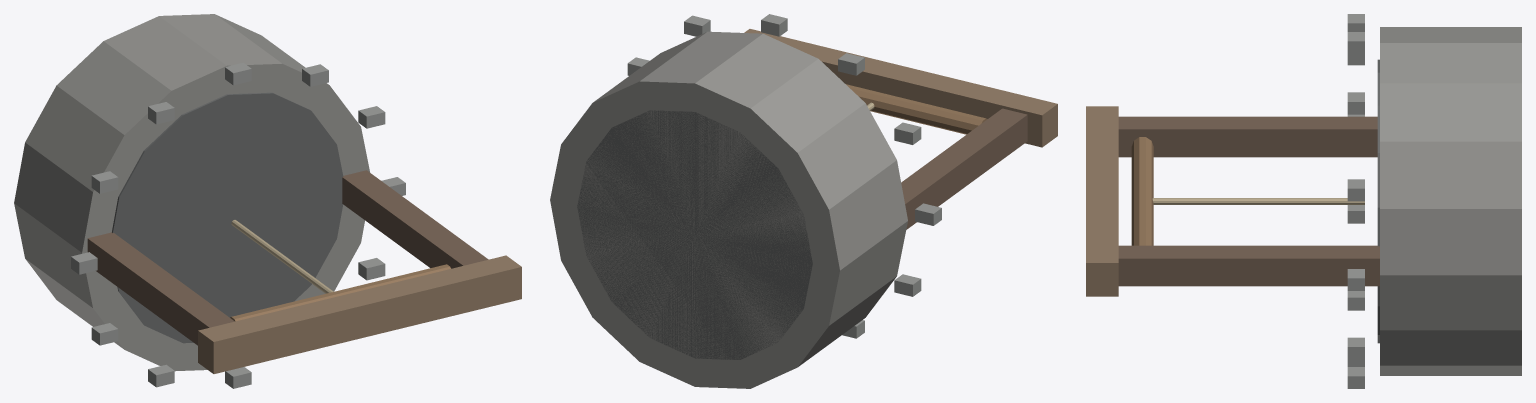
File: SM_StoneWell.glb
3 views of the same model, side by side, from view 1: azimuth 30°, elevation 25°; view 2: azimuth 150°, elevation 25°; view 3: azimuth 270°, elevation 25° (orthographic). The views are drawn at different scales.
Visible parts, largest first — view 1: SM_StoneWell_004, SM_StoneWell_003, SM_StoneWell_000, SM_StoneWell_002, SM_StoneWell_001, SM_StoneWell_017, SM_StoneWell_018, SM_StoneWell_006, SM_StoneWell_012, SM_StoneWell_016, SM_StoneWell_010, SM_StoneWell_008 (+5 smaller); view 2: SM_StoneWell_004, SM_StoneWell_003, SM_StoneWell_000, SM_StoneWell_002, SM_StoneWell_017, SM_StoneWell_012, SM_StoneWell_010, SM_StoneWell_011, SM_StoneWell_008, SM_StoneWell_009, SM_StoneWell_007; view 3: SM_StoneWell_004, SM_StoneWell_001, SM_StoneWell_002, SM_StoneWell_000, SM_StoneWell_017, SM_StoneWell_018, SM_StoneWell_003, SM_StoneWell_007, SM_StoneWell_006, SM_StoneWell_016, SM_StoneWell_005, SM_StoneWell_008 (+1 smaller).
Boxes of the visible parts, <box> form: SM_StoneWell_004: <box>14,14,369,371</box>; SM_StoneWell_003: <box>112,92,343,343</box>; SM_StoneWell_000: <box>198,255,521,373</box>; SM_StoneWell_002: <box>87,232,234,345</box>; SM_StoneWell_001: <box>342,170,488,268</box>; SM_StoneWell_017: <box>230,264,450,321</box>; SM_StoneWell_018: <box>231,220,333,293</box>; SM_StoneWell_006: <box>358,106,385,128</box>; SM_StoneWell_012: <box>91,323,118,345</box>; SM_StoneWell_016: <box>358,258,385,280</box>; SM_StoneWell_010: <box>91,171,118,193</box>; SM_StoneWell_008: <box>225,62,251,85</box>; SM_StoneWell_004: <box>550,31,907,388</box>; SM_StoneWell_003: <box>577,110,812,359</box>; SM_StoneWell_000: <box>744,29,1057,147</box>; SM_StoneWell_002: <box>901,108,1027,229</box>; SM_StoneWell_017: <box>846,84,987,134</box>; SM_StoneWell_012: <box>894,274,921,296</box>; SM_StoneWell_010: <box>894,122,921,144</box>; SM_StoneWell_011: <box>915,203,941,225</box>; SM_StoneWell_008: <box>761,14,787,36</box>; SM_StoneWell_009: <box>838,53,864,75</box>; SM_StoneWell_007: <box>684,15,710,36</box>; SM_StoneWell_004: <box>1380,27,1521,375</box>; SM_StoneWell_001: <box>1118,245,1379,286</box>; SM_StoneWell_002: <box>1118,116,1377,157</box>; SM_StoneWell_000: <box>1086,106,1118,296</box>; SM_StoneWell_017: <box>1131,137,1153,245</box>; SM_StoneWell_018: <box>1152,198,1364,204</box>; SM_StoneWell_003: <box>1377,59,1379,343</box>; SM_StoneWell_007: <box>1347,92,1364,114</box>; SM_StoneWell_006: <box>1347,179,1364,201</box>; SM_StoneWell_016: <box>1347,337,1364,359</box>; SM_StoneWell_005: <box>1347,269,1364,290</box>; SM_StoneWell_008: <box>1347,32,1364,53</box>.
Size of the model in its own units: 1.8 by 1.66 by 2.
